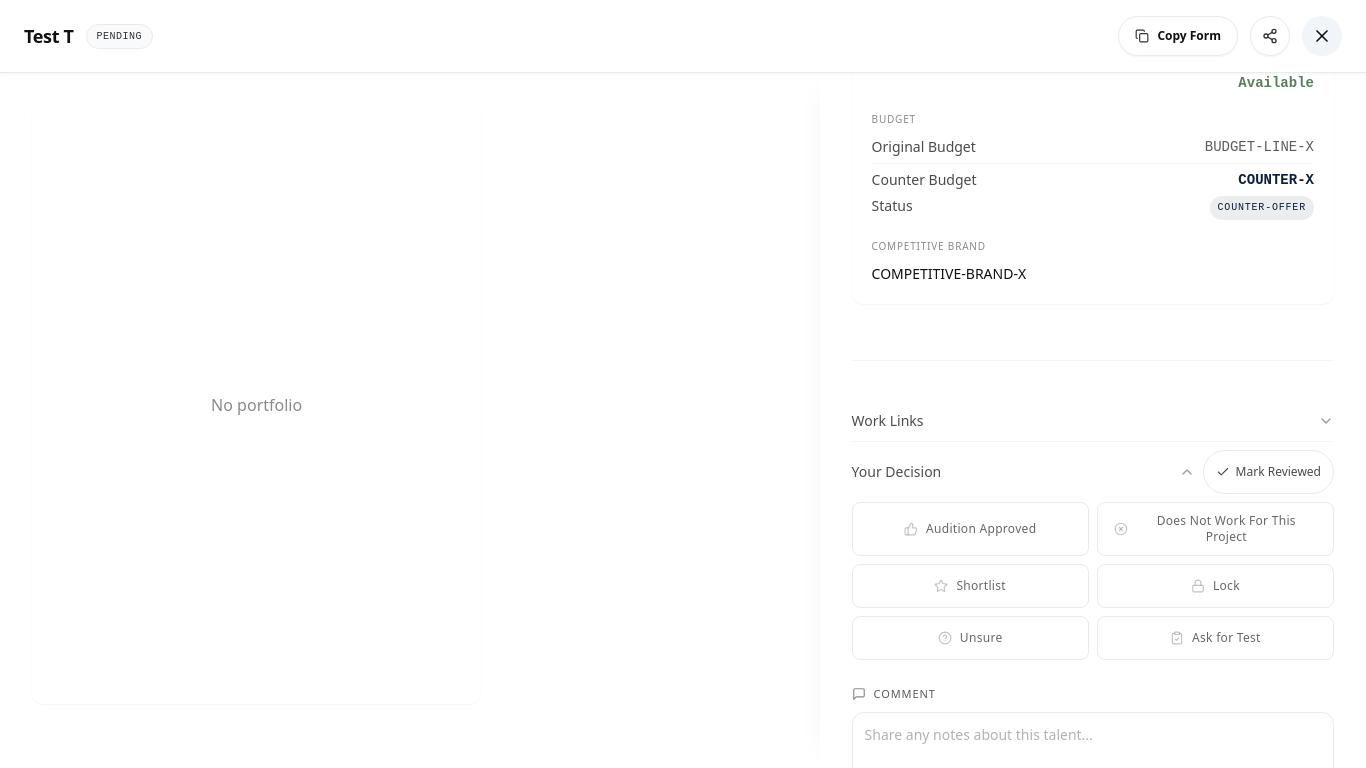
Test: ClientView — Availability & Budget accordion › leaves the other accordions as they were: Work Links closed by default, Your Decision open
(page scrolled)
// They still toggle independently of Availability & Budget.
Step 1. Click the button with test id "work-links-section" → x=888, y=420, box [852,400,1334,440]
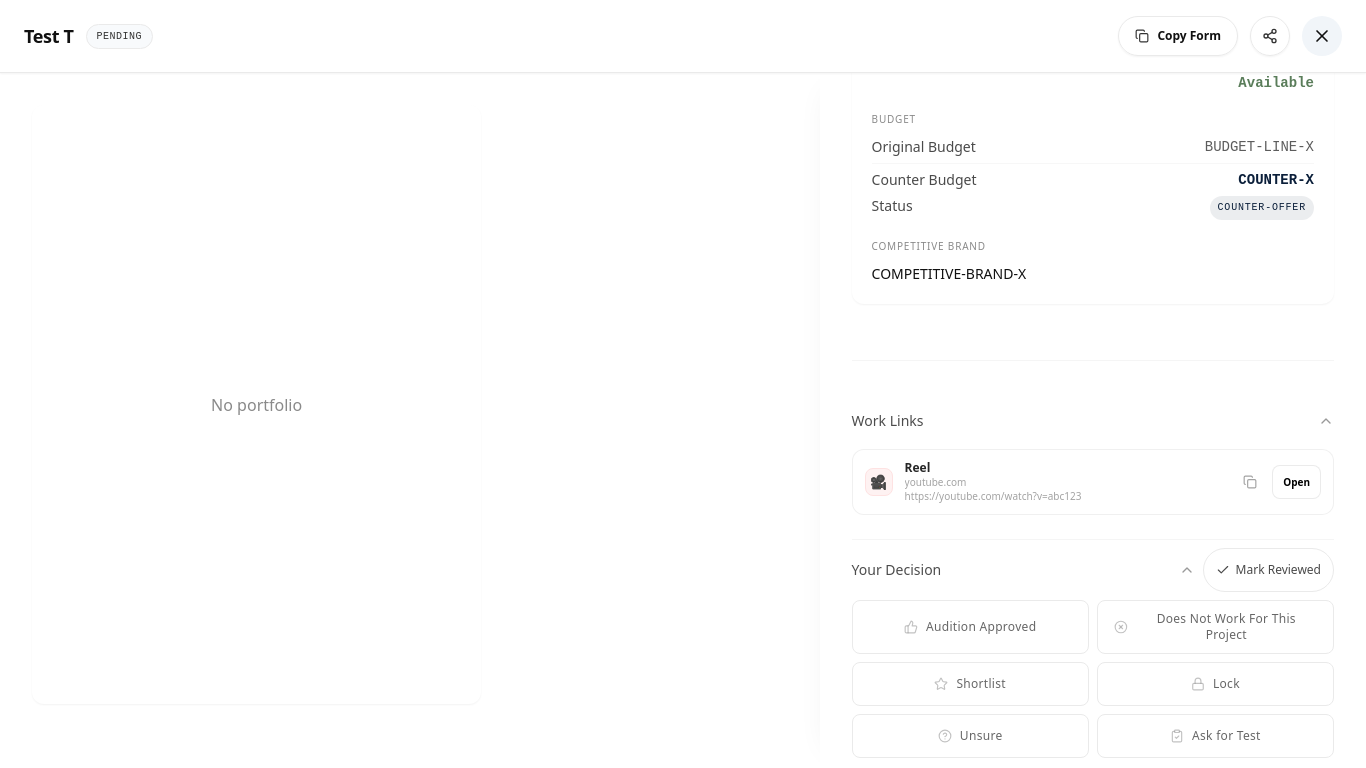
expect the button with test id "work-links-section" is expanded: met, box [852,400,1334,440]
Step 2. Click the button with test id "decision-section" → x=896, y=569, box [852,550,1195,590]
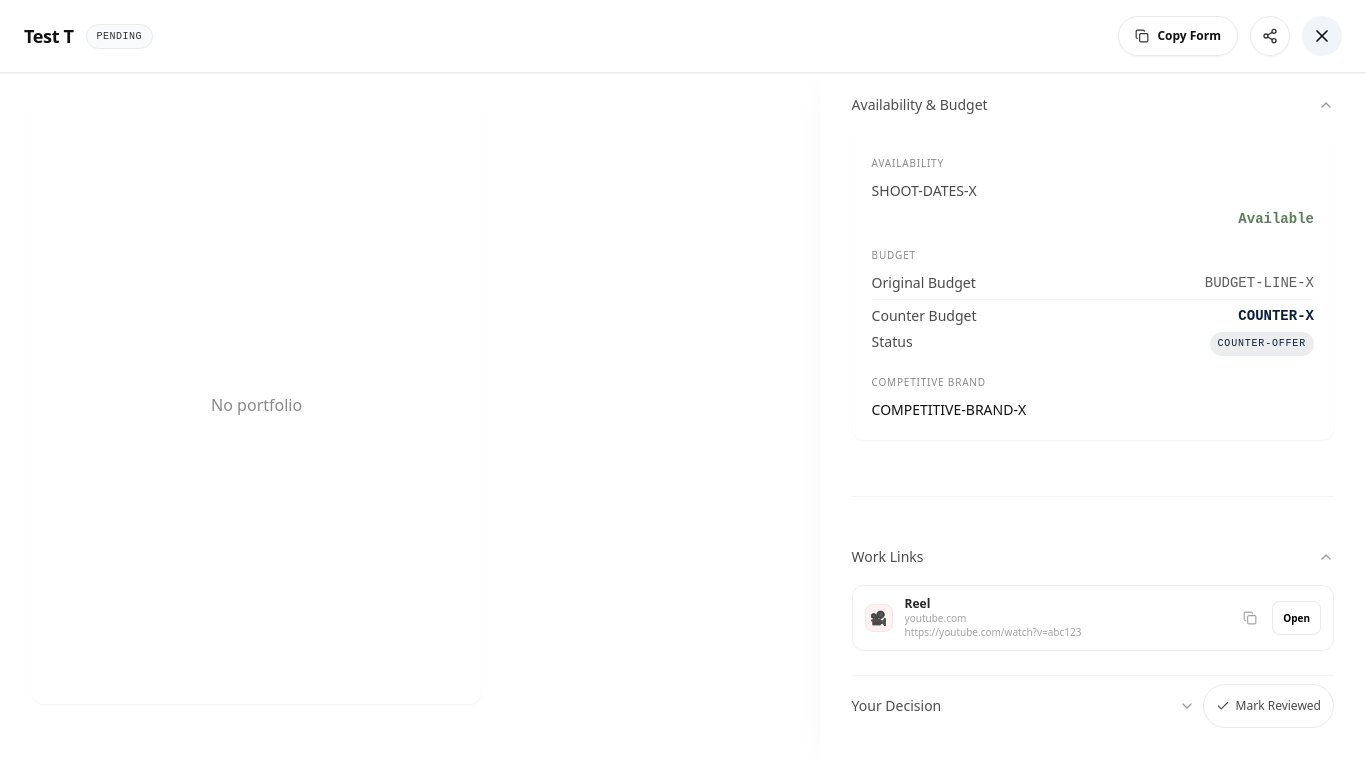
expect the button with test id "decision-section" is collapsed: met, box [852,686,1195,726]
